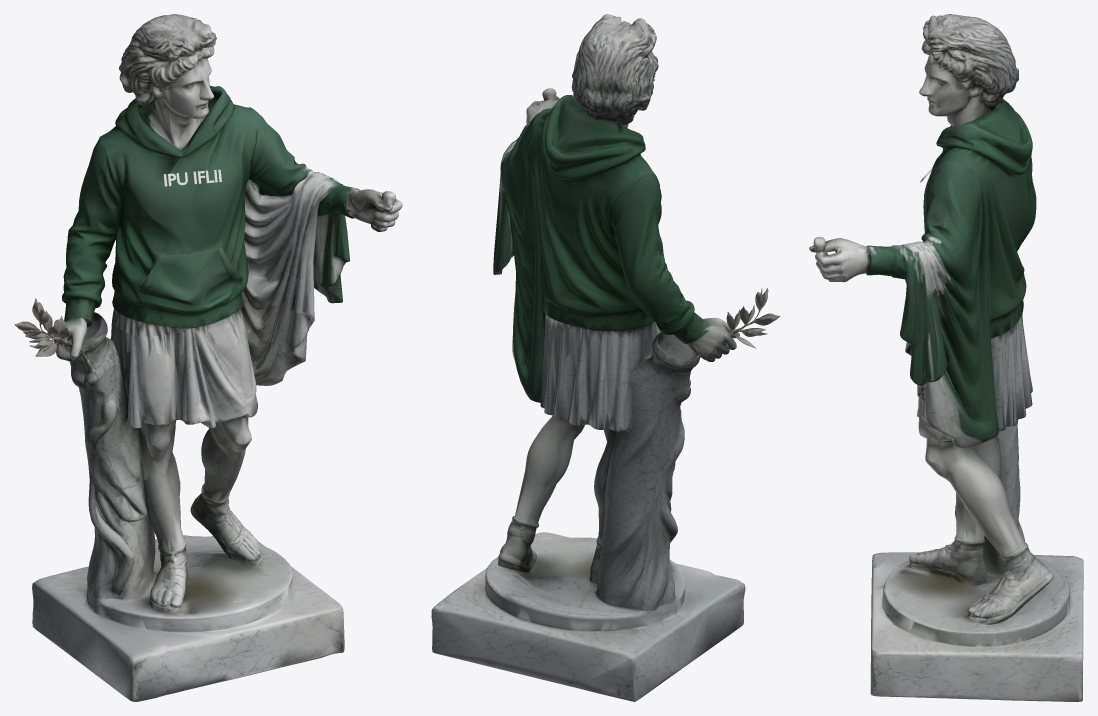
The model's file is ApolloStatue.glb.
The picture shows the model from 3 angles, left to right: view 1: azimuth 30°, elevation 25°; view 2: azimuth 150°, elevation 25°; view 3: azimuth 270°, elevation 25°; orthographic projection. The views are drawn at different scales.
Parts seen in each view (by area): view 1: node_0.003; view 2: node_0.003; view 3: node_0.003.
Part boxes in pixels (x1,y1,x2,y2): node_0.003: (14,14,402,701); node_0.003: (431,14,780,701); node_0.003: (809,14,1083,701).
Size of the model in its own units: 0.5531 by 1.05 by 0.4201.
Materials: 1 (1 with a texture image).
